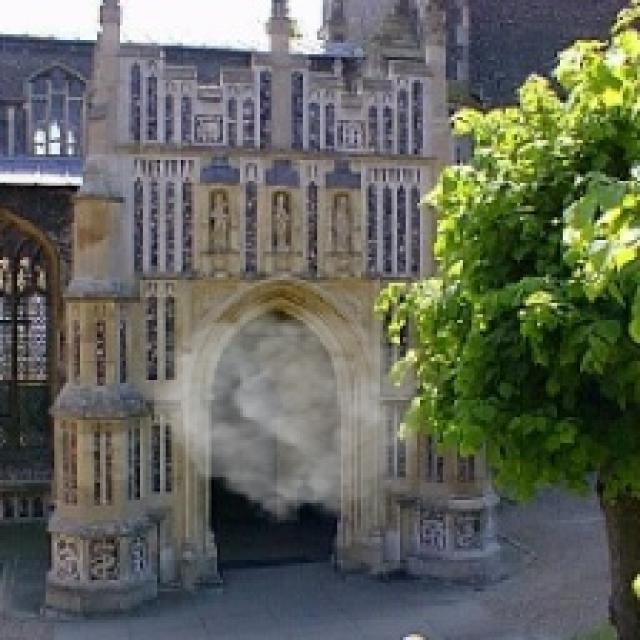smoke: (154, 294, 417, 526)
